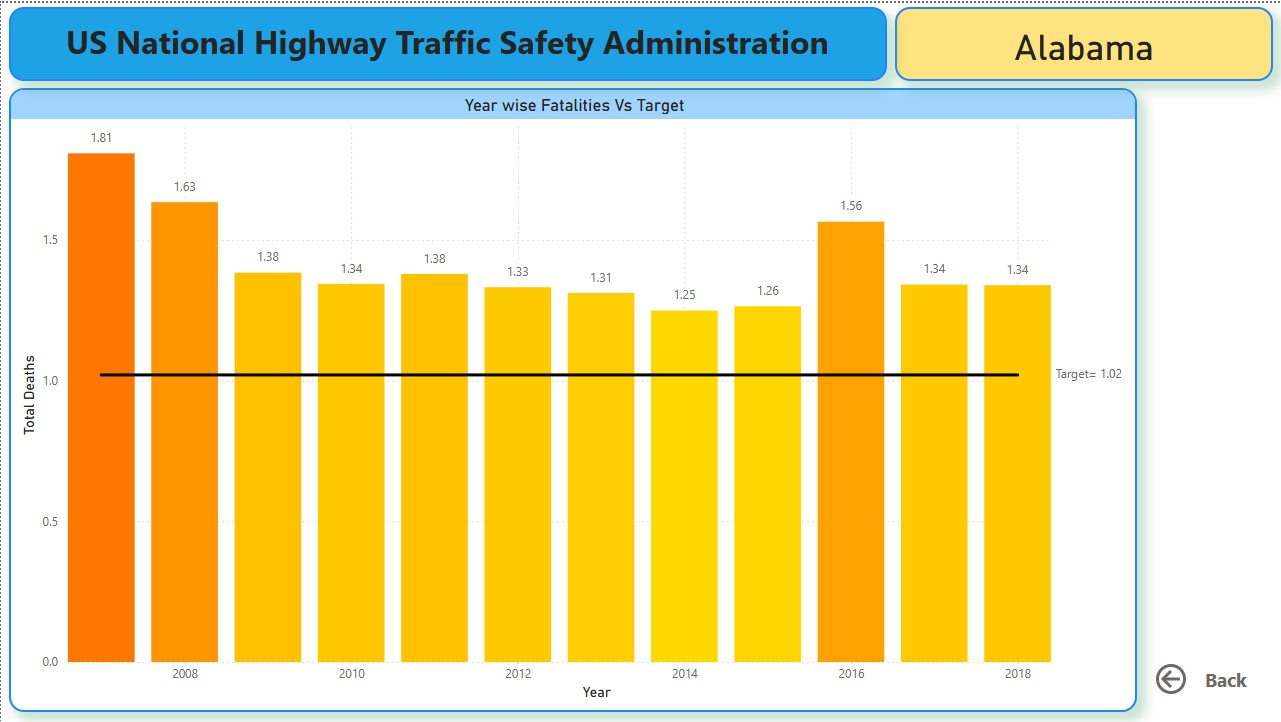

Layout of this report page (visuals, bound fields, positions):
{"tool":"powerbi","page":{"name":"Fatality Rate","canvas":[1280,720],"ordinal":3},"visuals":[{"type":"lineStackedColumnComboChart","title":"Year wise Fatalities Vs Target","fields":{"Category":["PA - Driving Safety.Year"],"Y2":["Sum(PA - Driving Safety.Target1.02)"],"Y":["Avg(PA - Driving Safety.Deaths per 100 million vehicle miles traveled)"]},"box":[8.1,84.7,1127.8,623.9],"z":0},{"type":"card","title":"Selected US State","fields":{"Values":["Min(PA - Driving Safety.State)"]},"box":[894,4,378,73.6],"z":1000},{"type":"textbox","box":[8.1,4,877.9,73.6],"z":2000},{"type":"actionButton","box":[1150,656.1,99.8,40.3],"z":3000}]}

Visuals, with their boxes in screenshot pixels (x1, y1, x2, y2), scaled from the page's 1280x720 canvas onto the 1281x722 screenshot:
"Year wise Fatalities Vs Target" lineStackedColumnComboChart: region(8, 85, 1137, 711)
"Selected US State" card: region(895, 4, 1273, 78)
textbox: region(8, 4, 887, 78)
actionButton: region(1151, 658, 1251, 698)
